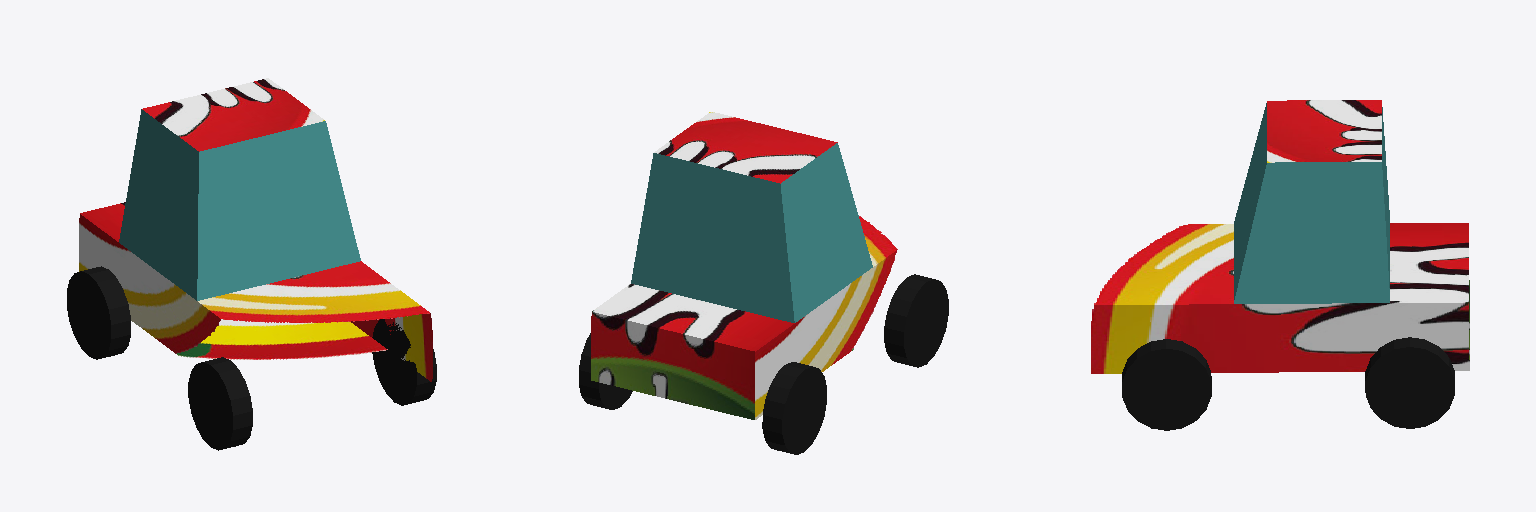
The picture shows the model from 3 angles: view 1: azimuth 30°, elevation 25°; view 2: azimuth 150°, elevation 25°; view 3: azimuth 270°, elevation 25°; orthographic projection.
Parts seen in each view (by area): view 1: group2; view 2: group2; view 3: group2.
Boxes of the visible parts, x1,y1,x2,y2 form: group2: [67, 78, 436, 450]; group2: [579, 112, 948, 454]; group2: [1091, 100, 1469, 430].
Bounding box in the file's own units: 6.78 × 7.96 × 10.93.
3 materials, 1 textured.